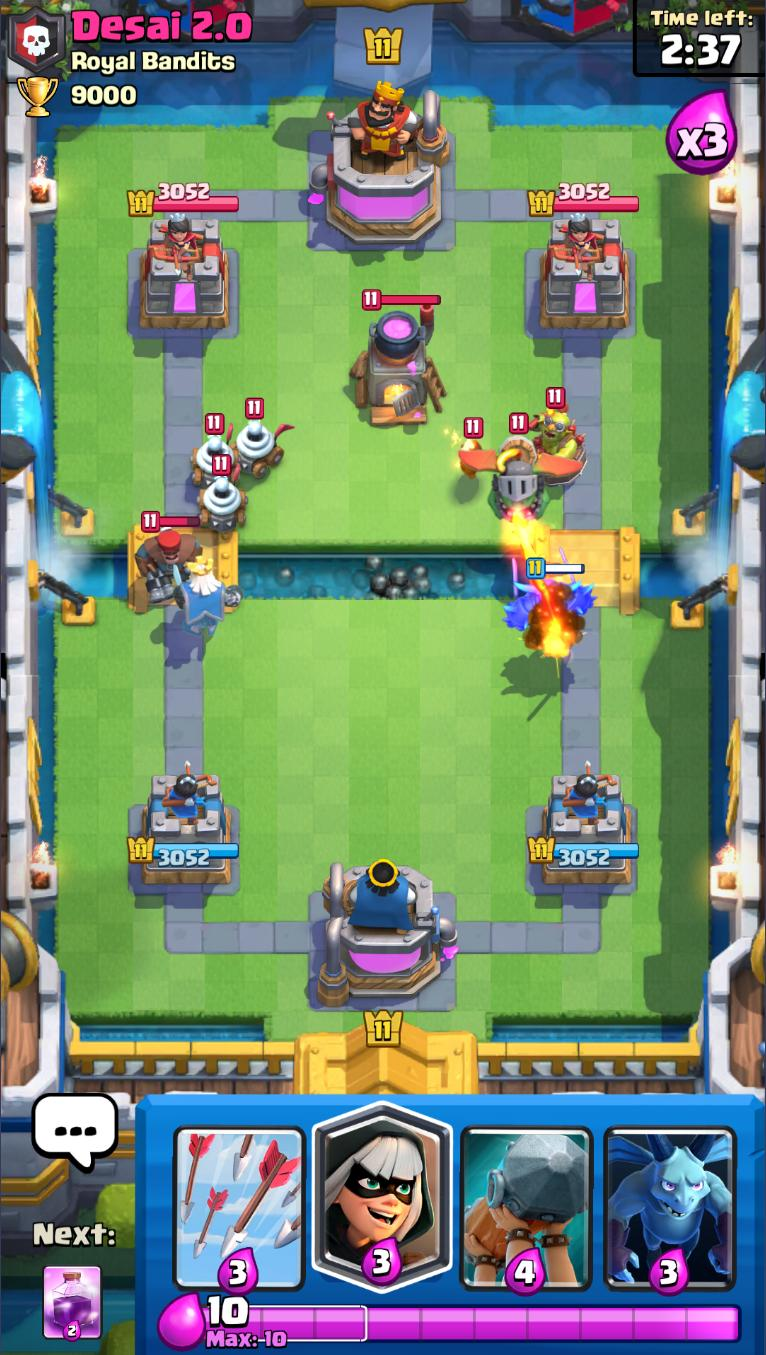ArrowDeck: (166, 1096, 312, 1294)
BanditDeck: (312, 1096, 453, 1298)
BattleRamDeck: (454, 1097, 598, 1296)
Demolisher: (521, 387, 589, 489)
Elixir: (202, 1294, 743, 1351)
EnemyTower: (138, 215, 232, 331), (539, 215, 632, 331)
FireSpirit: (456, 414, 485, 482)
Furnace: (351, 289, 448, 426)
Hunter: (134, 511, 204, 604)
InfernoDragon: (458, 413, 584, 528)
KingTower: (310, 79, 451, 248)
MiniGenerator: (232, 396, 297, 480), (197, 453, 249, 536), (189, 413, 241, 486)
MinionsDeck: (598, 1095, 743, 1296)
MyKingTower: (316, 856, 459, 1009)
MyPekka: (502, 549, 597, 642)
MyPrincessTower: (125, 771, 242, 889), (528, 770, 641, 889)
MyPrincessTowerHP: (125, 835, 241, 868), (527, 835, 641, 868)
MyRoyaleGhost: (170, 556, 244, 638)
PrincessTower: (149, 215, 203, 277), (550, 216, 603, 274)
RageNext: (41, 1264, 104, 1342)
TowerPrincessHP: (127, 182, 240, 217), (528, 182, 641, 216)
